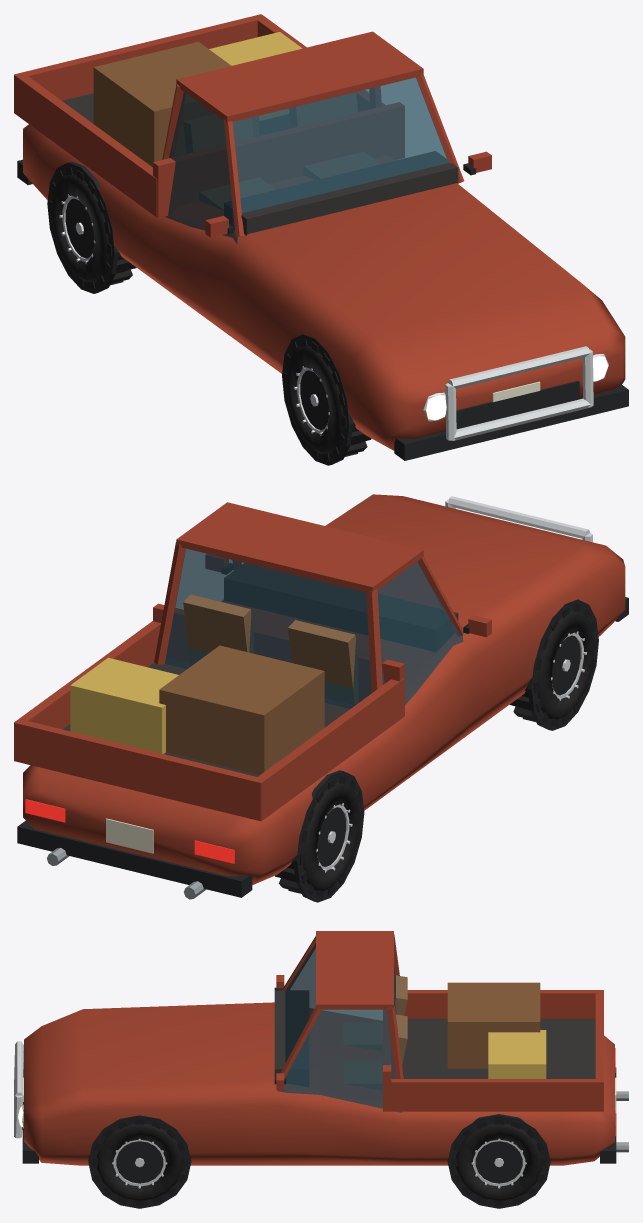
Rendered from cedar-pickup.glb.
3 views of the same model, one above another, from view 1: azimuth 30°, elevation 25°; view 2: azimuth 150°, elevation 25°; view 3: azimuth 270°, elevation 25° (orthographic). The views are drawn at different scales.
Visible parts, largest first — view 1: body, wheel_FR, wheel_RR; view 2: body, wheel_FR, wheel_RR, plate_R, taillight_L, taillight_R; view 3: body, wheel_RL, wheel_FL.
Part boxes in pixels (left/top/right/bottom): body: left=14, top=14, right=628, bottom=465; wheel_FR: left=283, top=339, right=371, bottom=460; wheel_RR: left=49, top=167, right=136, bottom=289; body: left=14, top=494, right=628, bottom=902; wheel_FR: left=509, top=604, right=597, bottom=726; wheel_RR: left=275, top=776, right=362, bottom=897; plate_R: left=106, top=818, right=153, bottom=853; taillight_L: left=25, top=799, right=65, bottom=822; taillight_R: left=194, top=840, right=234, bottom=863; body: left=14, top=931, right=616, bottom=1208; wheel_RL: left=451, top=1119, right=546, bottom=1205; wheel_FL: left=92, top=1119, right=187, bottom=1205.
Size of the model in its own units: 2.15 by 1.85 by 5.3.
